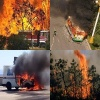fire: (51, 51, 92, 98), (0, 0, 50, 36), (15, 72, 45, 93), (66, 16, 87, 42), (5, 41, 8, 47)
